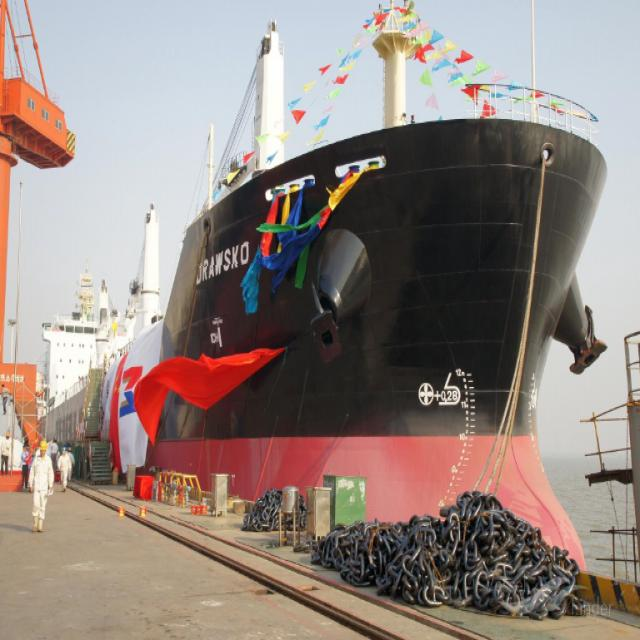OCR: (193, 237, 260, 290)
